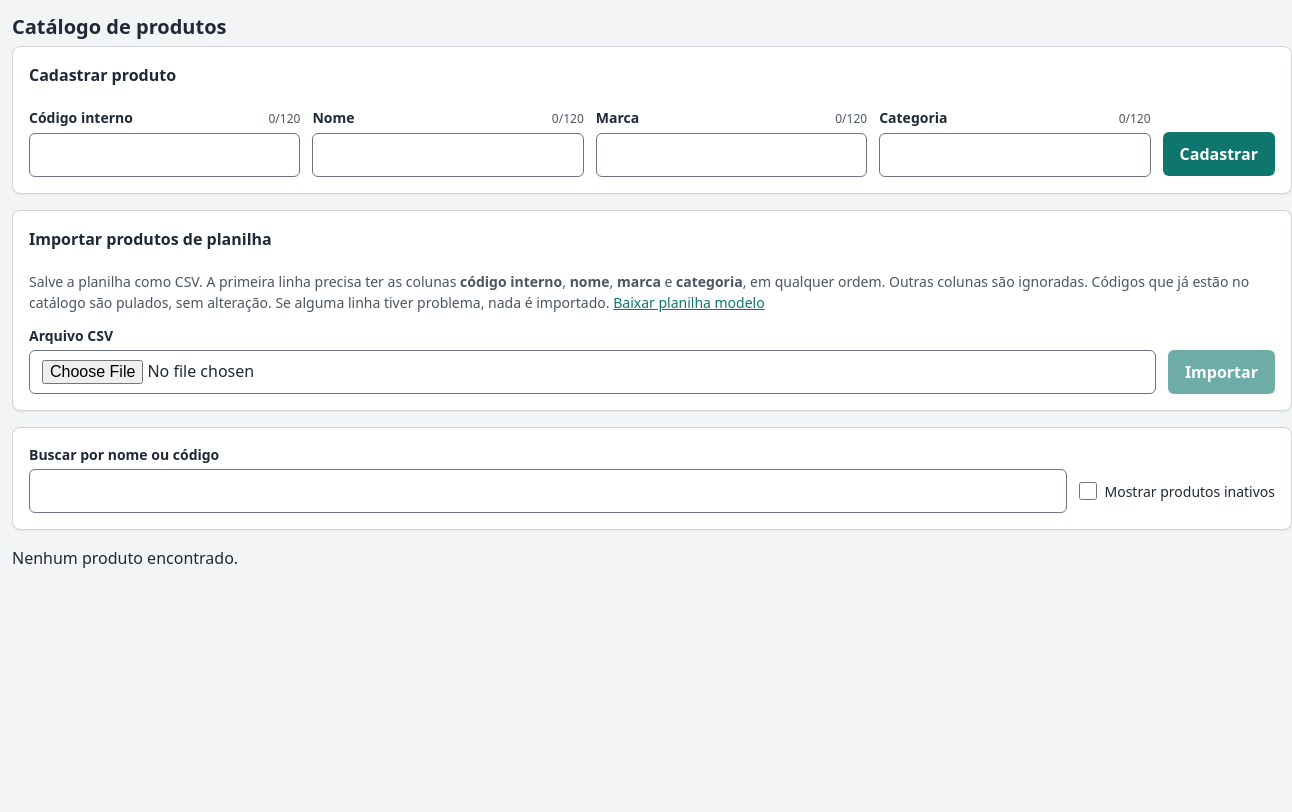
Test case: TelaProdutos (RF02) › limite de 120 caracteres (T25) › nomeia junto ao campo, pelo rótulo, o campo que o servidor recusou
Check: the text "Nenhum produto encontrado." is shown, box [12,547,238,569]
Type "PRF-001" into the field labelled "Código interno" at (165, 155), box [29,133,300,177]
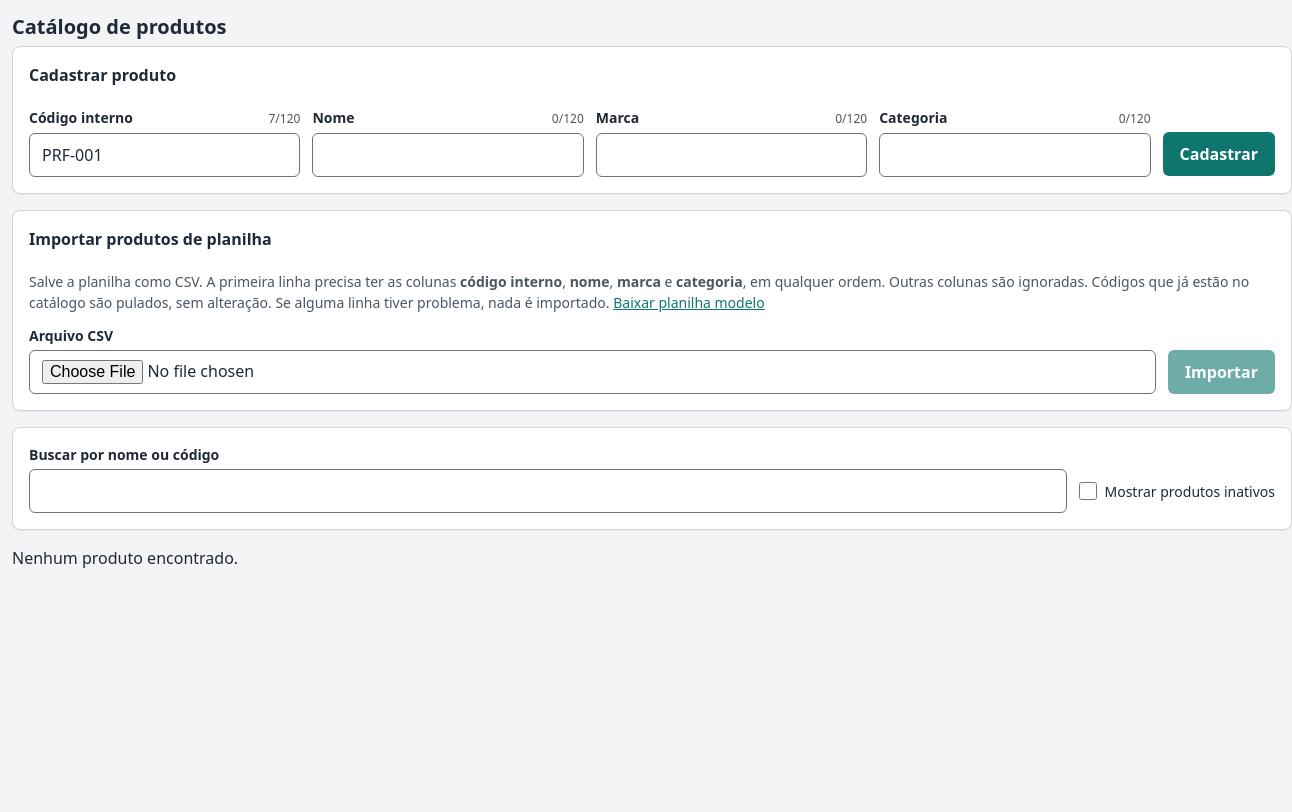
Type "Eau de Parfum 50ml" into the field labelled "Nome" at (448, 155), box [312,133,584,177]
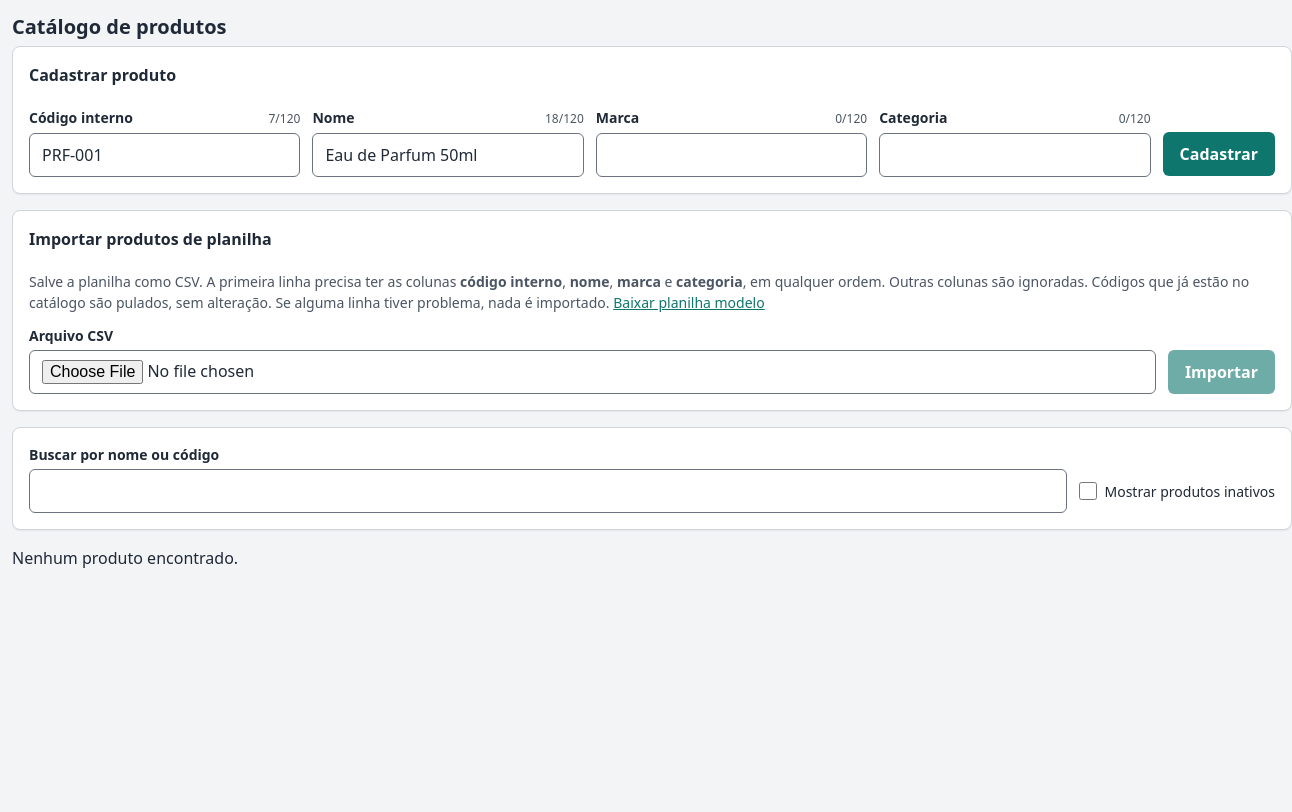
Type "Marca Exemplo" into the field labelled "Marca" at (732, 155), box [596,133,867,177]
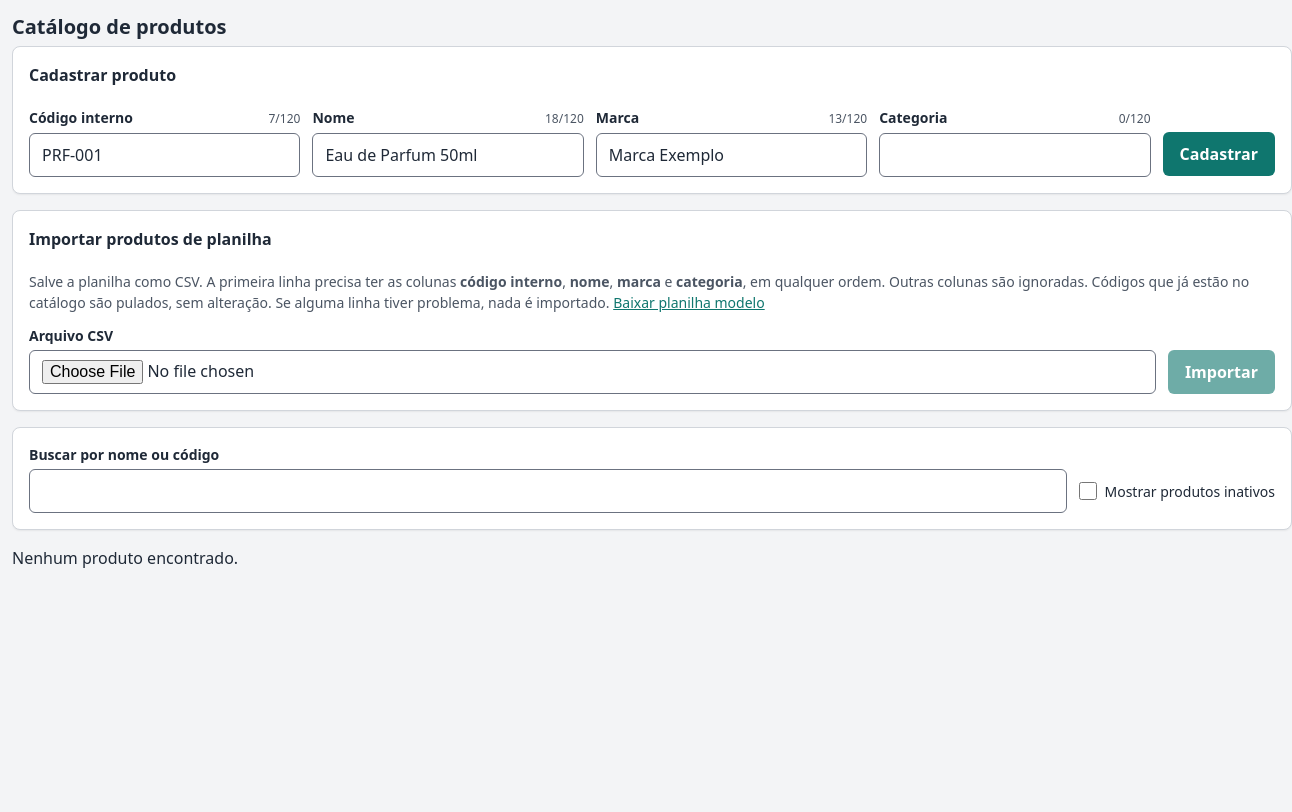
Type "Perfumaria" into the field labelled "Categoria" at (1015, 155), box [879,133,1151,177]
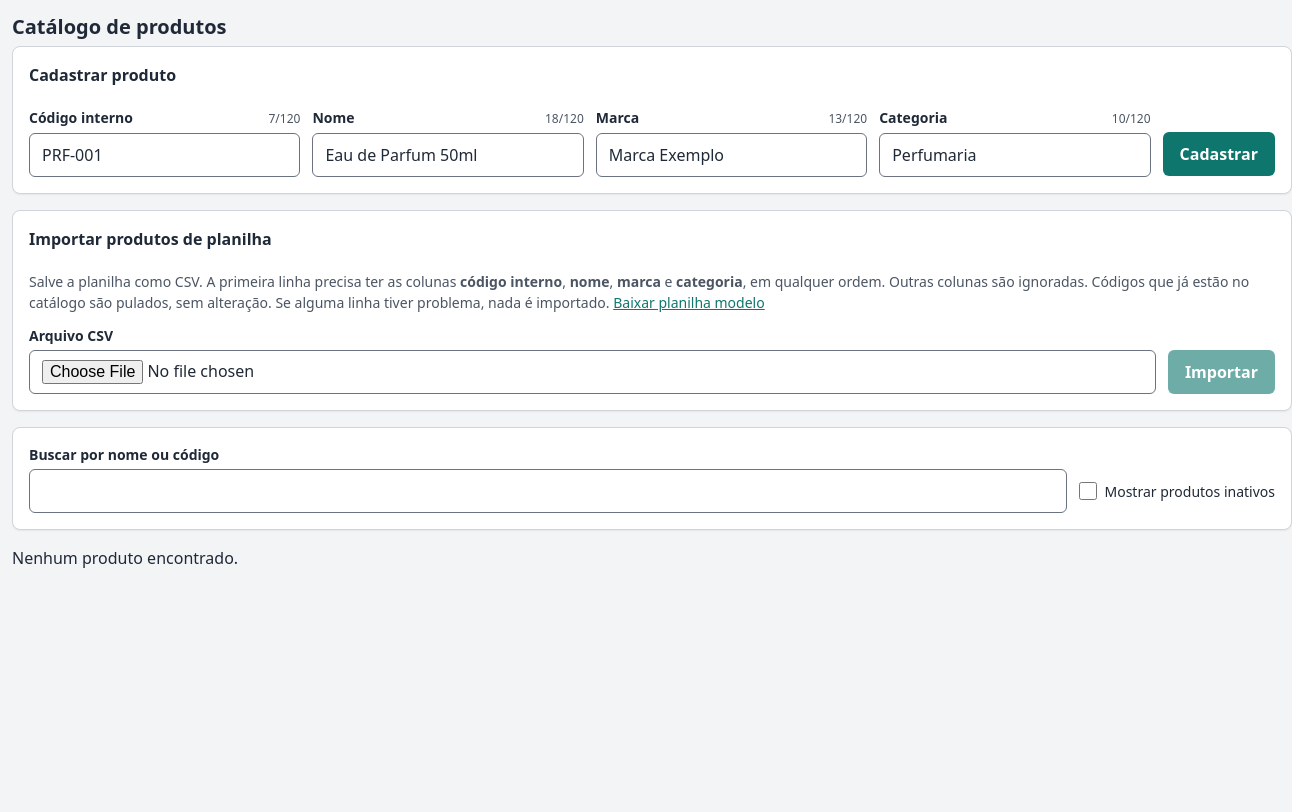
Click the button "Cadastrar" at (1219, 154), box [1163,132,1275,176]
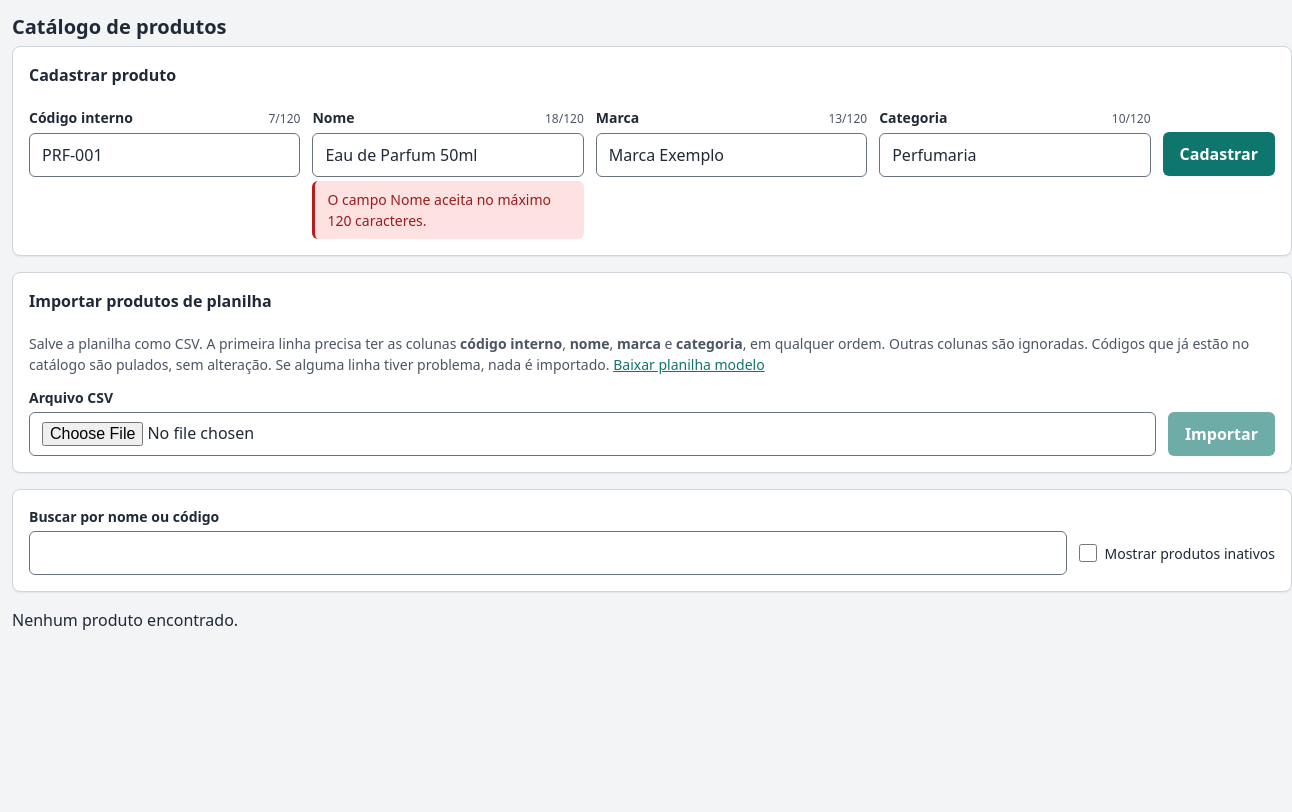
Check: the message reads "O campo Nome aceita no máximo 120 caracteres.", box [327,190,551,230]
Replace the text in the field labelled "Nome" with "Eau de Parfum" at (448, 155), box [312,133,584,177]
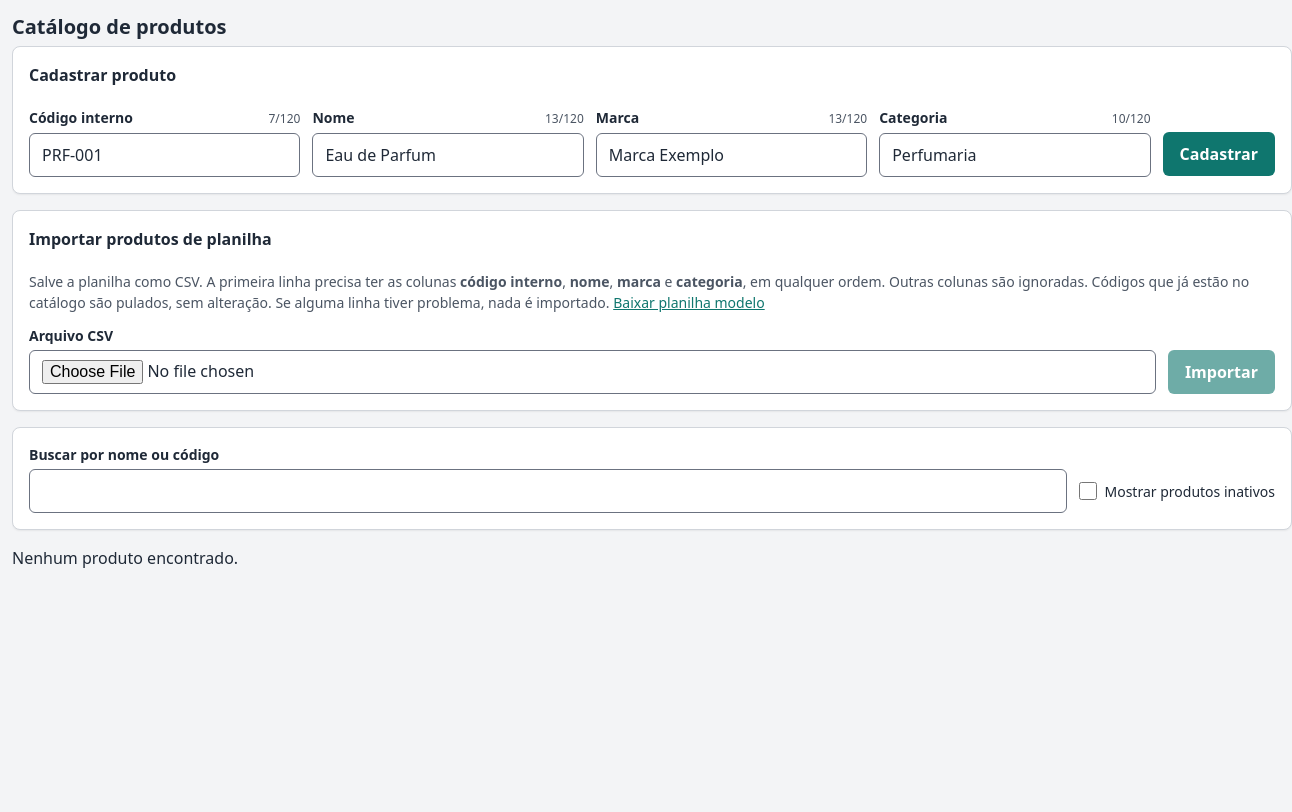
Check: the message "O campo Nome aceita no máximo 120 caracteres." is gone
